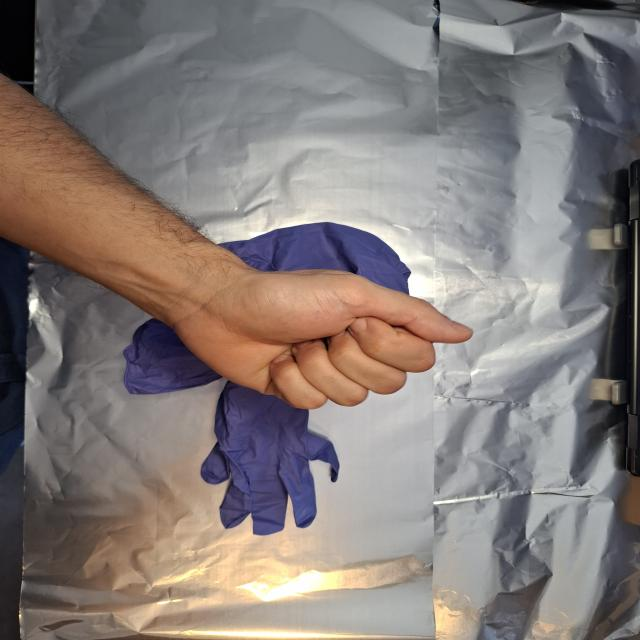glove_off: (160, 266, 478, 412)
